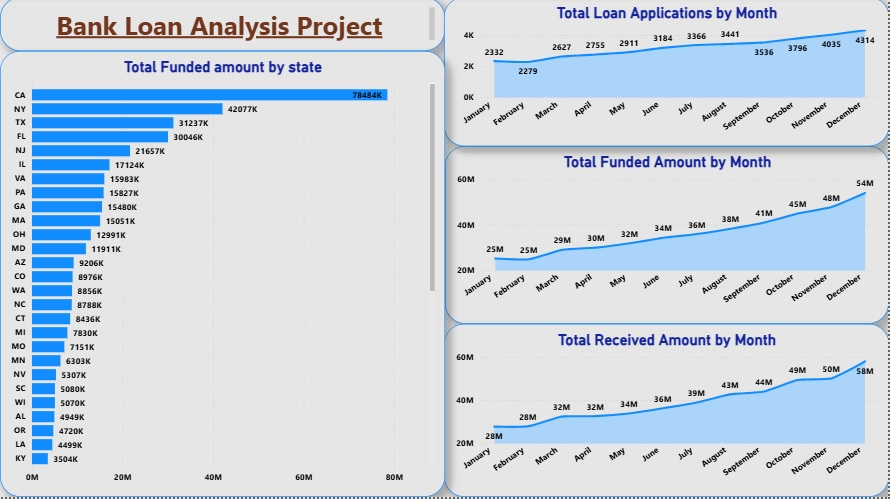

This screenshot's page, from the dashboard's own definition file:
{"tool":"powerbi","page":{"name":"Page 1","canvas":[1280,720],"ordinal":0},"visuals":[{"type":"textbox","box":[0,0,640.8,77.8],"z":0},{"type":"lineChart","title":"Total Funded Amount by Month","fields":{"Category":["financial_loan.issue_date.Variation.Date Hierarchy.Month"],"Y":["Sum(financial_loan.loan_amount)"]},"box":[640.8,214.6,639.4,256.3],"z":1},{"type":"lineChart","title":"Total Received Amount by Month","fields":{"Category":["financial_loan.issue_date.Variation.Date Hierarchy.Month"],"Y":["Sum(financial_loan.total_payment)"]},"box":[639.4,470.9,640.8,249.1],"z":2},{"type":"lineChart","title":"Total Loan Applications by Month","fields":{"Category":["financial_loan.issue_date.Variation.Date Hierarchy.Month"],"Y":["CountNonNull(financial_loan.id)"]},"box":[639.4,0,640.8,214.6],"z":3},{"type":"barChart","title":"Total Funded amount by state","fields":{"Y":["Sum(financial_loan.loan_amount)"],"Category":["financial_loan.address_state"]},"box":[0,77.8,640.8,642.2],"z":4}]}

Visuals, with their boxes in screenshot pixels (x1, y1, x2, y2), scaled from the page's 1280x720 canvas onto the 893x502 screenshot:
textbox: box(0, 0, 447, 54)
"Total Funded Amount by Month" lineChart: box(447, 150, 892, 328)
"Total Received Amount by Month" lineChart: box(446, 328, 892, 501)
"Total Loan Applications by Month" lineChart: box(446, 0, 892, 150)
"Total Funded amount by state" barChart: box(0, 54, 447, 501)
